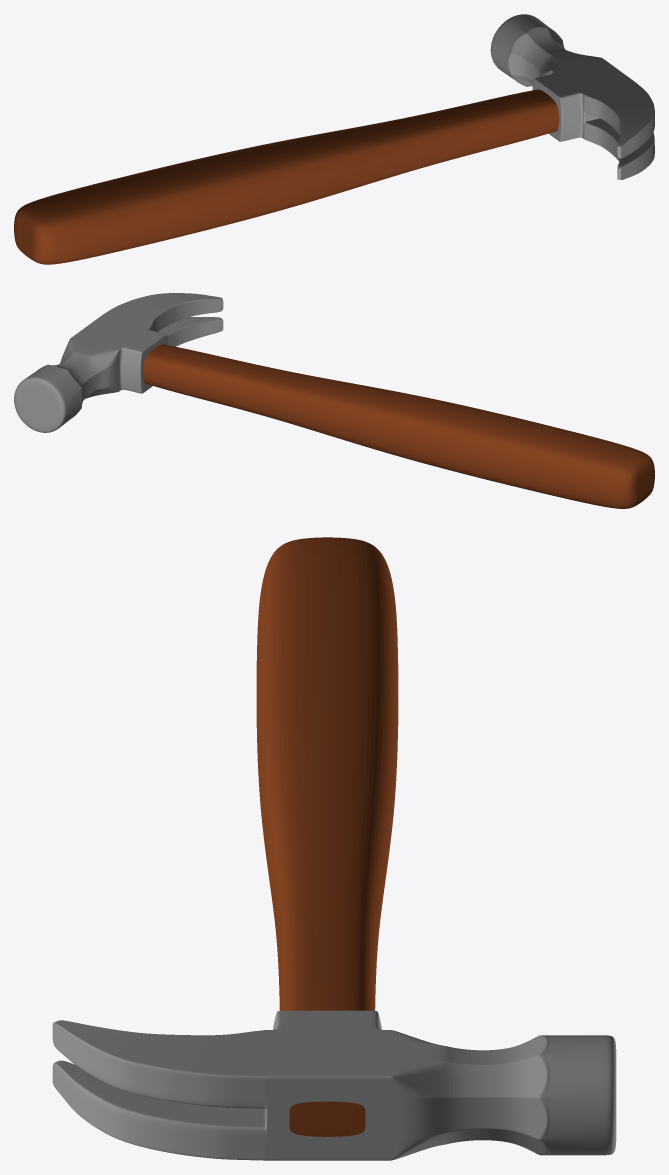
File: steel_hammer.obj
3 renders of one model, top to bottom at view 1: azimuth 30°, elevation 25°; view 2: azimuth 150°, elevation 25°; view 3: azimuth 270°, elevation 25°, orthographic. The views are drawn at different scales.
Visible parts, largest first — view 1: obj6, obj1, obj2, obj3, obj4, obj5; view 2: obj6, obj1, obj2, obj3, obj4, obj5; view 3: obj6, obj1, obj2, obj4, obj3, obj5.
Boxes of the visible parts, x1,y1,x2,y2 form: obj6: (14, 89, 559, 264); obj1: (532, 58, 654, 176); obj2: (496, 51, 654, 172); obj3: (490, 14, 568, 86); obj4: (508, 15, 636, 158); obj5: (583, 83, 654, 179); obj6: (143, 344, 654, 508); obj1: (21, 313, 221, 424); obj2: (49, 293, 213, 428); obj3: (14, 354, 100, 432); obj4: (14, 296, 223, 431); obj5: (104, 293, 223, 333); obj6: (256, 537, 398, 1136); obj1: (54, 1010, 401, 1160); obj2: (55, 1022, 471, 1160); obj4: (52, 1020, 616, 1160); obj3: (444, 1035, 616, 1155); obj5: (52, 1036, 266, 1160).
Bounding box in the file's own units: 3.04 × 0.2813 × 1.32.
